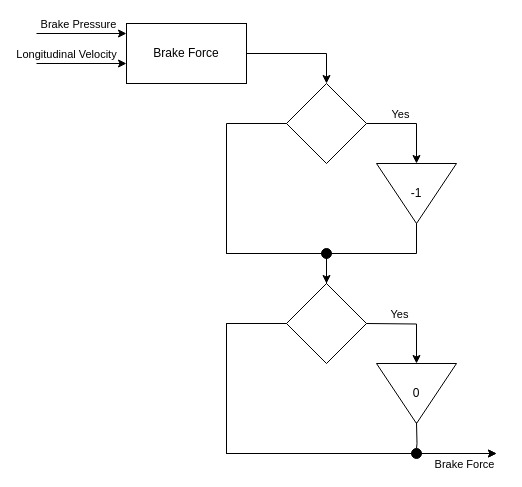
Image size: 522x487. Some labels were removed from this diagram. Here are the shapes that lost their labels. From the top down, the centre of each, then its label:
point (326, 123): Vx < 0?
point (326, 323): |Vx| < 1?
